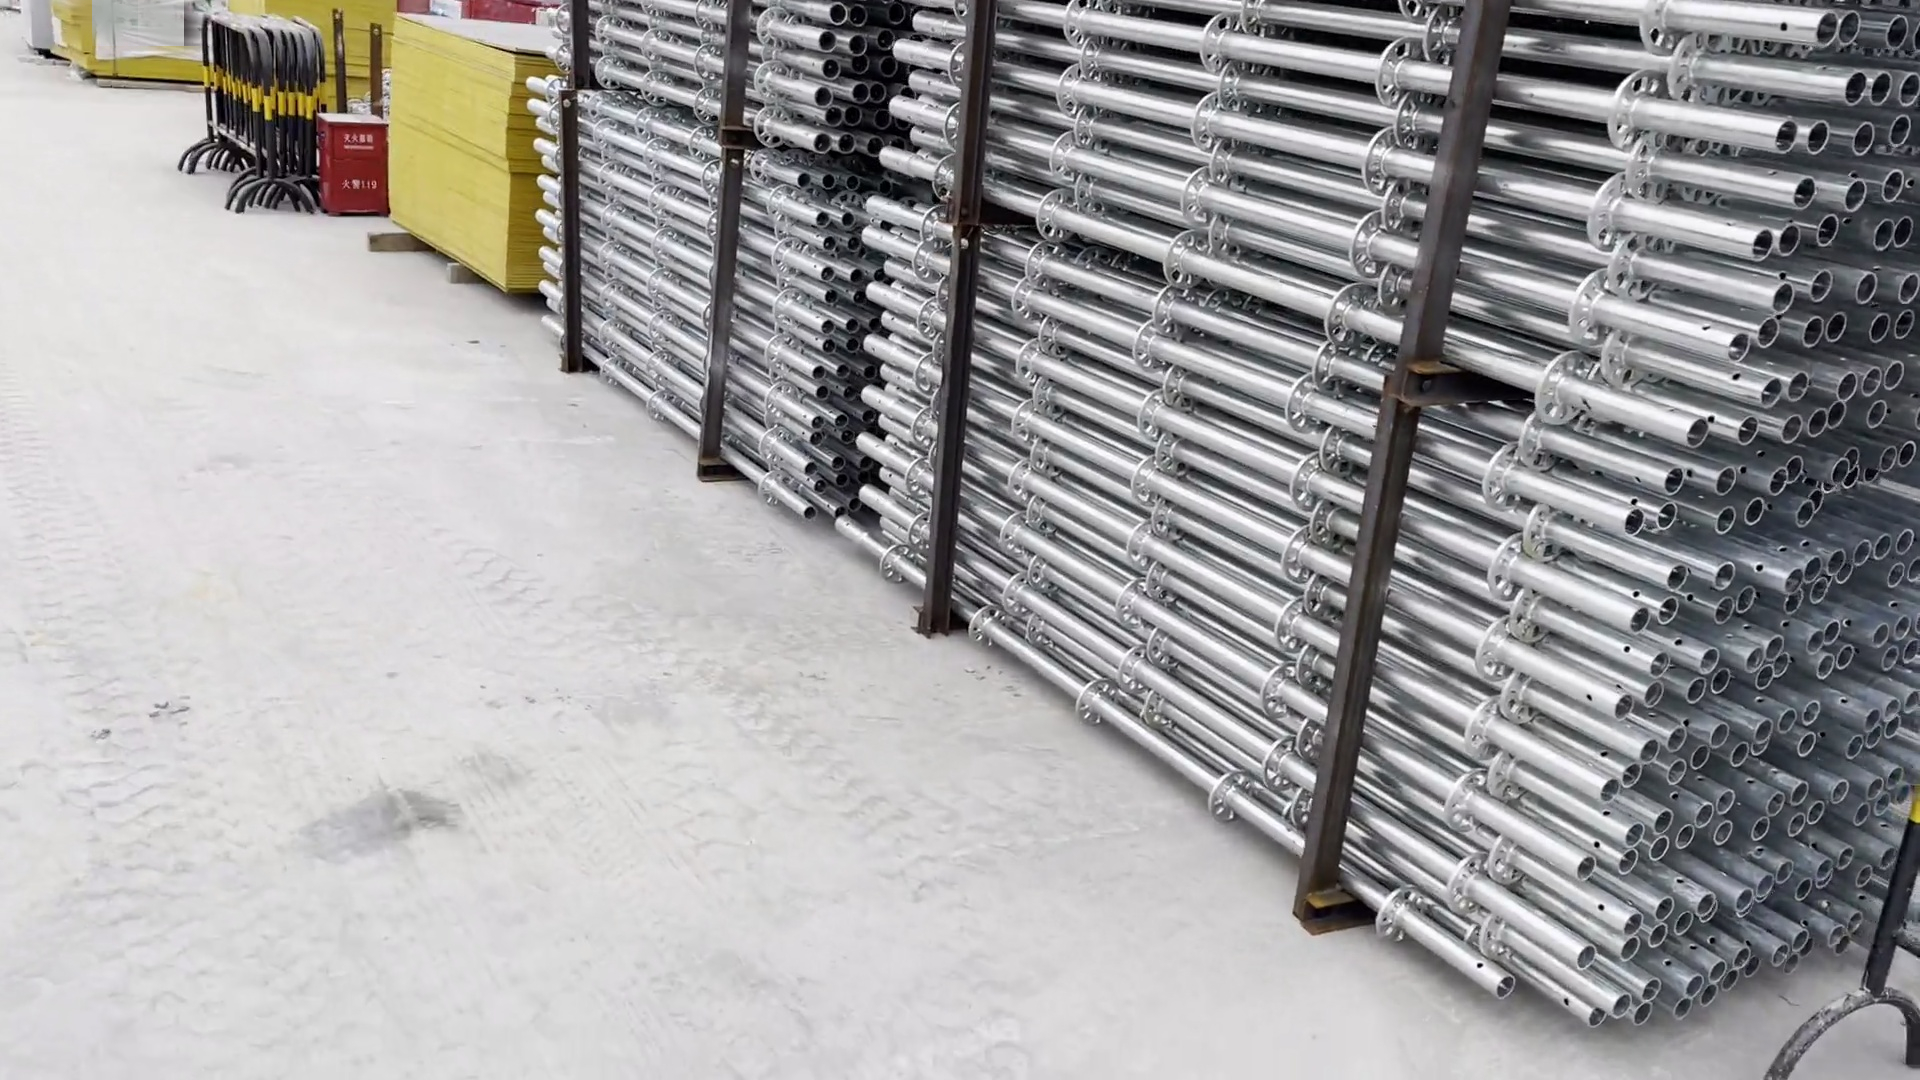board: (380, 7, 612, 295), (65, 1, 236, 94), (262, 1, 415, 98)
scaffold: (845, 11, 1920, 1080), (574, 1, 889, 556)
